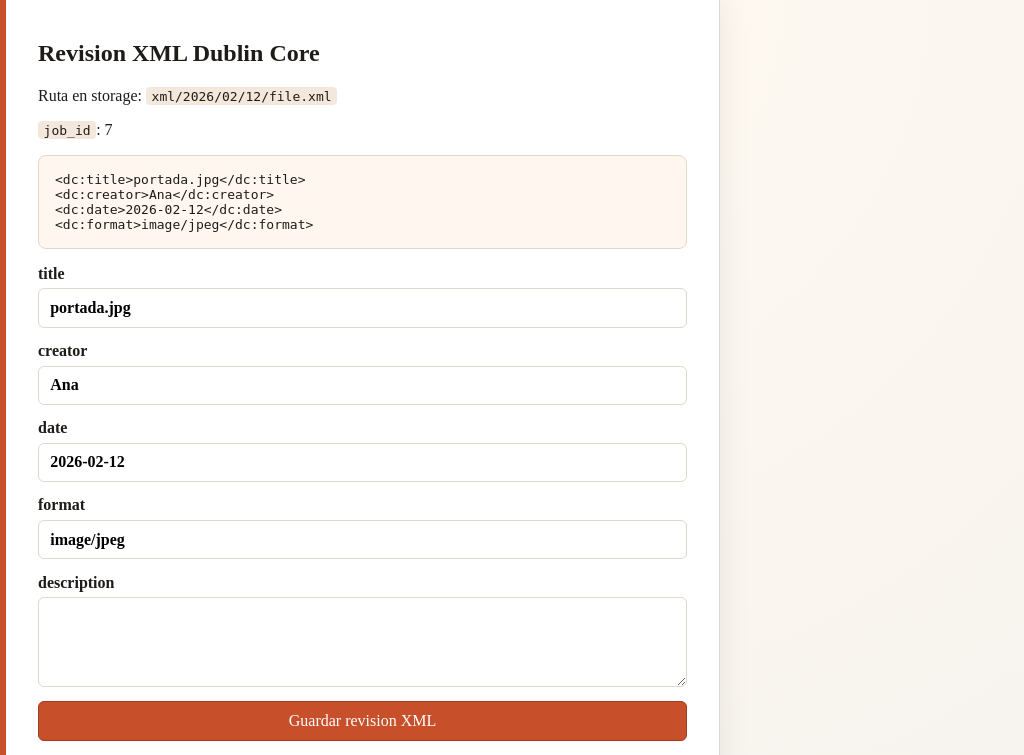
Test: XmlPage › bloquea guardado cuando falta un campo obligatorio
This screenshot has width=1024, height=755.
Click the button "Guardar revision XML" at (362, 721), box 38,702 -> 687,741
(page scrolled)
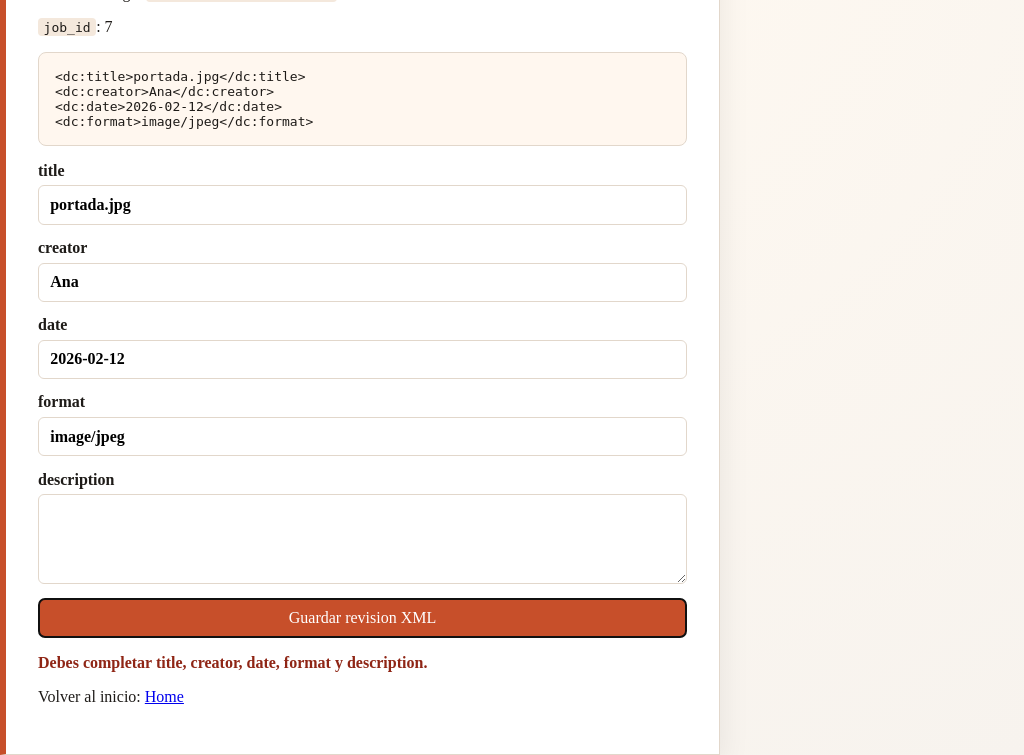
expect the text "Debes completar title, creator, date, format y description." is shown: met, box 38,654 -> 427,671
